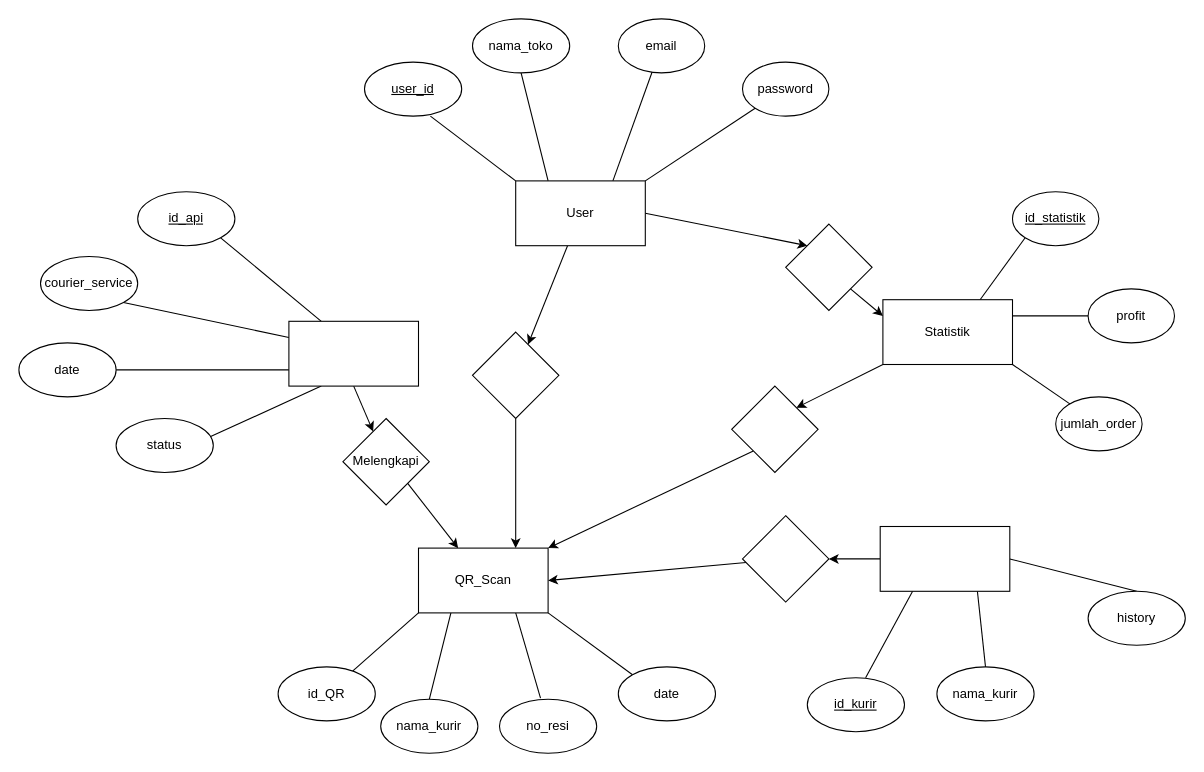
Image size: 1204x772. Some labels were removed from this diagram. The box of each missing label's shape, as (x1, y1, x2, y2) in pixels:
API_Info: (288, 320, 418, 386)
Berasal Dari: (731, 385, 818, 473)
Kurir: (879, 525, 1010, 591)
Melakukan: (471, 331, 559, 418)
Memiliki: (785, 223, 872, 310)
Menjelaskan: (741, 515, 829, 602)
